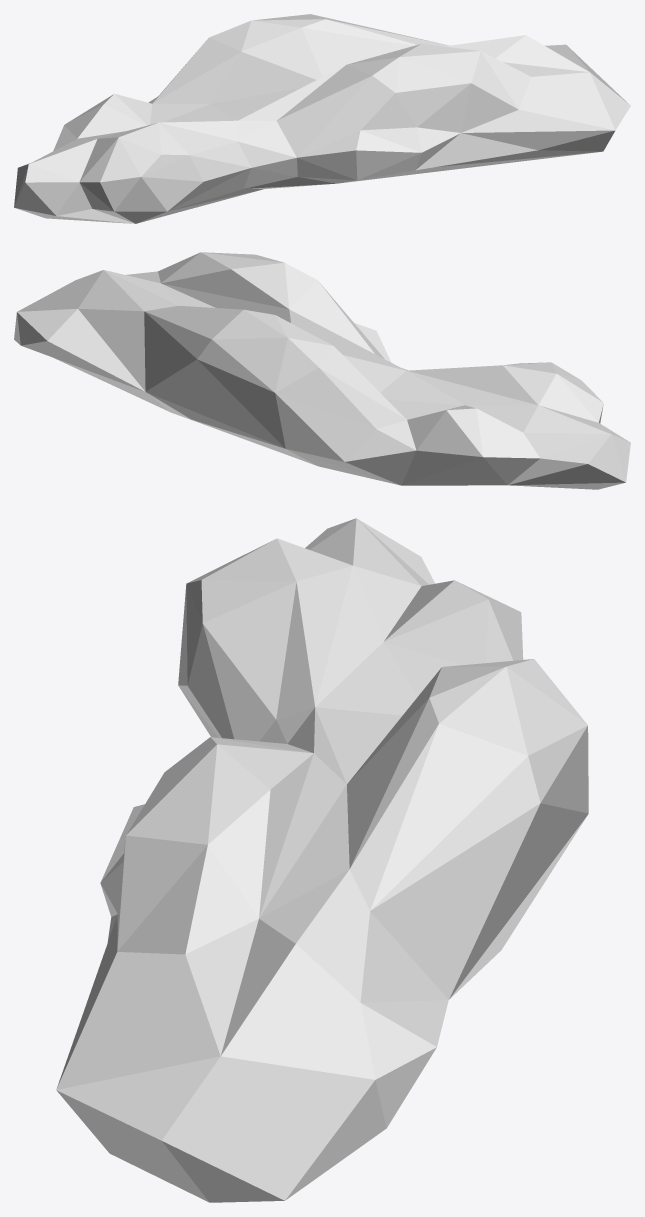
The model's file is FloatingIsland_Dif8_Sc2.fbx.
The picture shows the model from 3 angles, top to bottom: view 1: azimuth 30°, elevation 25°; view 2: azimuth 150°, elevation 25°; view 3: azimuth 270°, elevation 25°; orthographic projection. The views are drawn at different scales.
Visible parts, largest first — view 1: FloatingIsland_Dif8_Sc2; view 2: FloatingIsland_Dif8_Sc2; view 3: FloatingIsland_Dif8_Sc2.
Boxes of the visible parts, <box> form: FloatingIsland_Dif8_Sc2: <box>14,14,630,223</box>; FloatingIsland_Dif8_Sc2: <box>14,252,630,489</box>; FloatingIsland_Dif8_Sc2: <box>56,518,588,1202</box>.
Bounding box in the file's own units: 4.61 × 1.83 × 0.9892.
